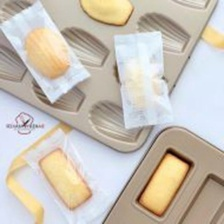snack: (0, 0, 96, 108), (110, 24, 179, 134)
